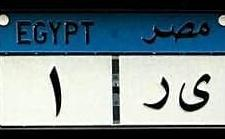1: (48, 64, 67, 118)
raa: (141, 72, 171, 116)
yaa: (175, 70, 215, 116)
